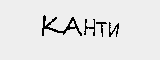А: (61, 15, 81, 37)
И: (108, 19, 119, 39)
К: (39, 15, 61, 35)
Н: (82, 16, 96, 37)
Т: (97, 17, 105, 39)
